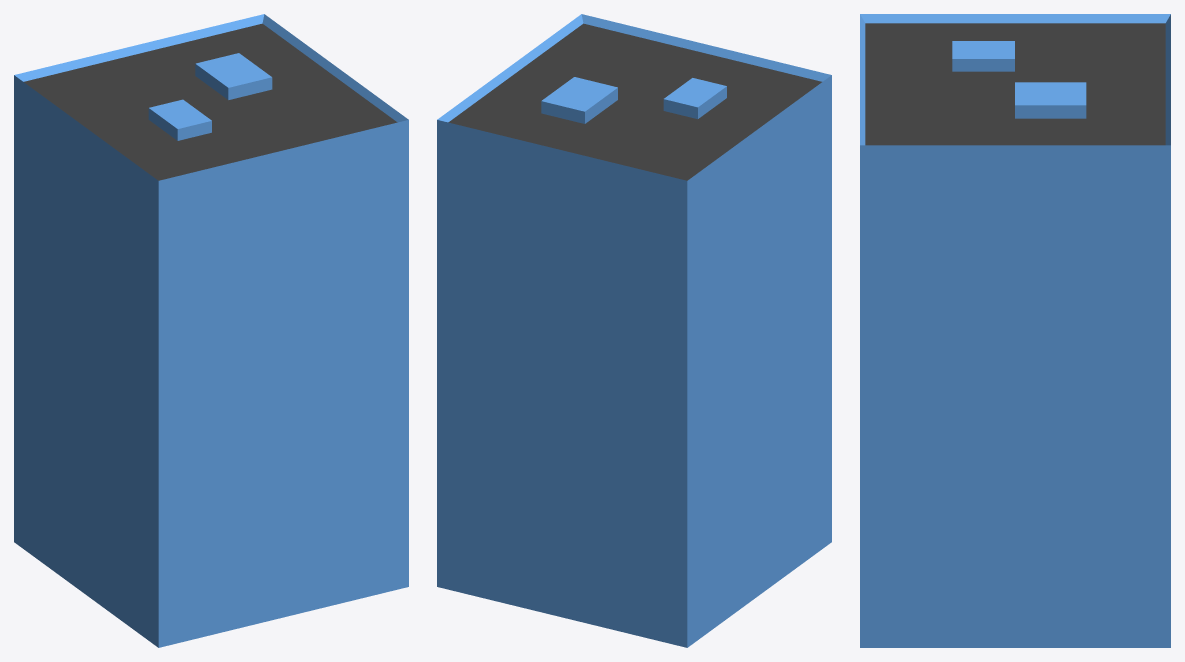
The model's file is Apartment.glb.
3 renders of one model, left to right at view 1: azimuth 30°, elevation 25°; view 2: azimuth 150°, elevation 25°; view 3: azimuth 270°, elevation 25°, orthographic. The views are drawn at different scales.
Visible parts, largest first — view 1: Cube; view 2: Cube; view 3: Cube.
Boxes of the visible parts, x1,y1,x2,y2 form: Cube: (14,14,408,647); Cube: (437,14,831,647); Cube: (860,14,1170,647).
Size of the model in its own units: 2 by 3.61 by 2.
